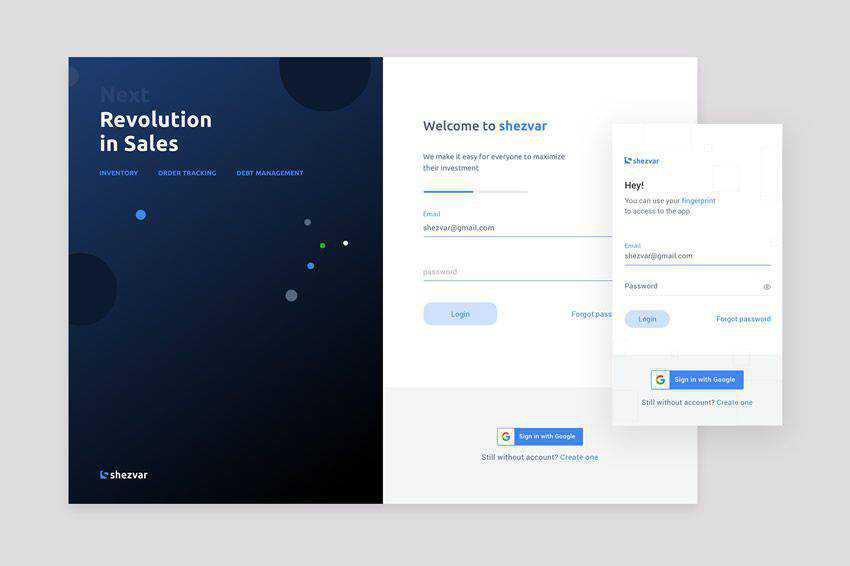button: (652, 371, 745, 391), (424, 303, 498, 327), (499, 428, 585, 446), (626, 310, 671, 329)
